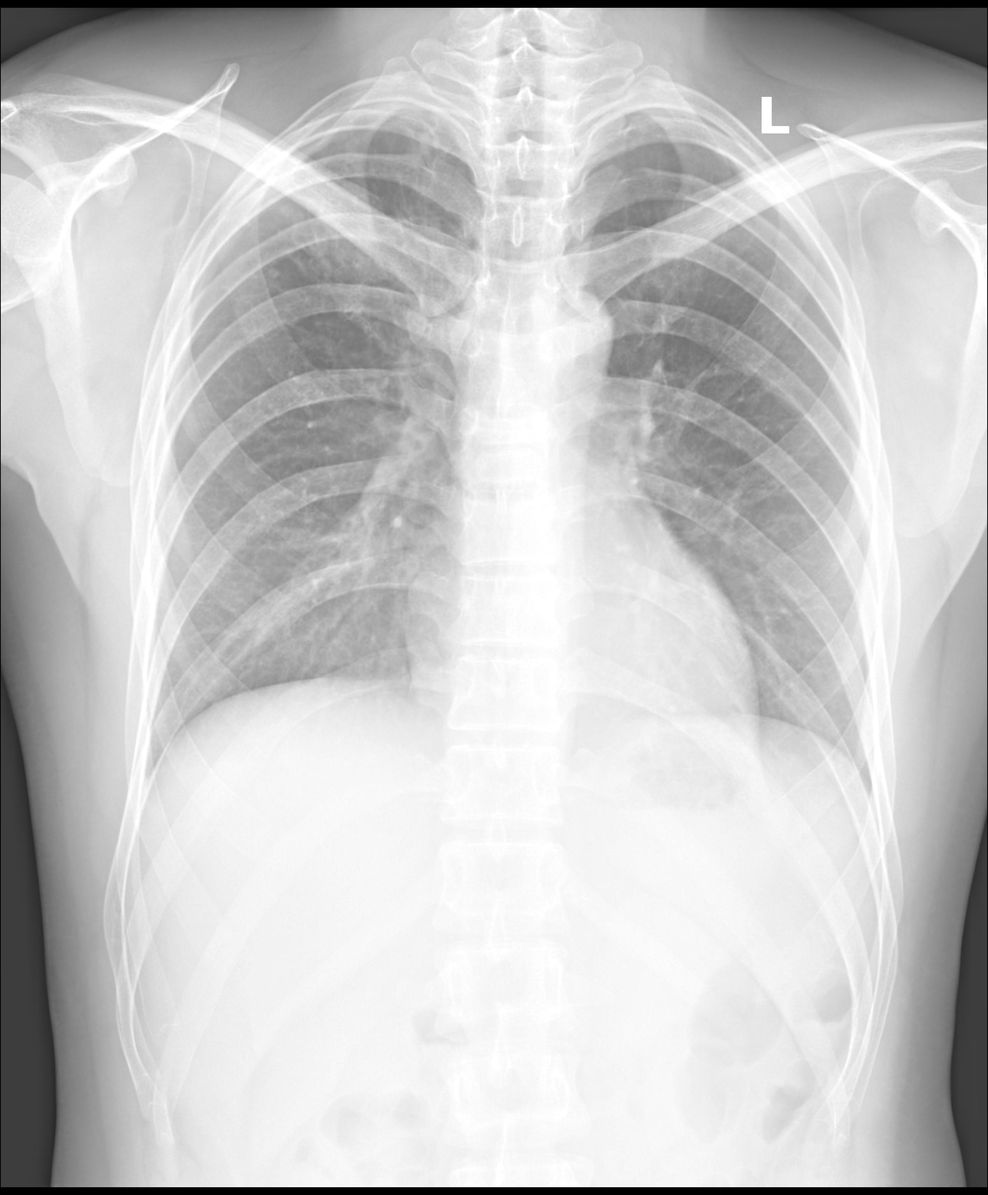Pulmonary fibrosis: (383, 105, 452, 236)
